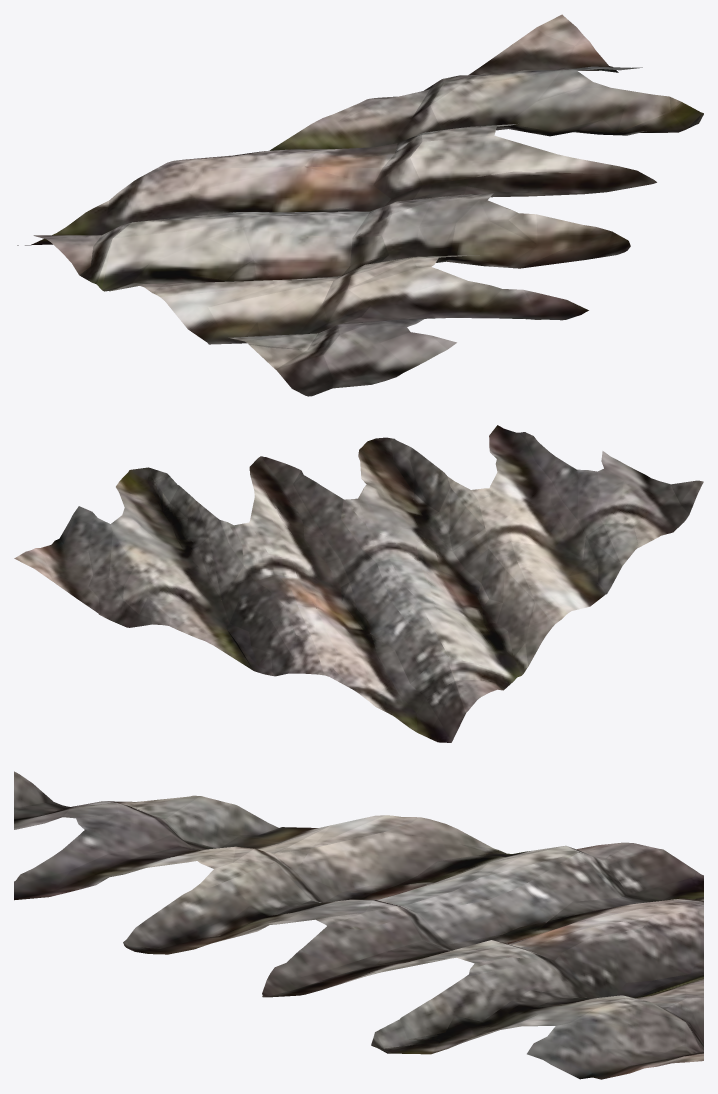
3 renders of one model, top to bottom at view 1: azimuth 30°, elevation 25°; view 2: azimuth 150°, elevation 25°; view 3: azimuth 270°, elevation 25°, orthographic. The views are drawn at different scales.
Size of the model in its own units: 0.8374 by 0.1563 by 0.8374.
Materials: 2 (2 with a texture image).
